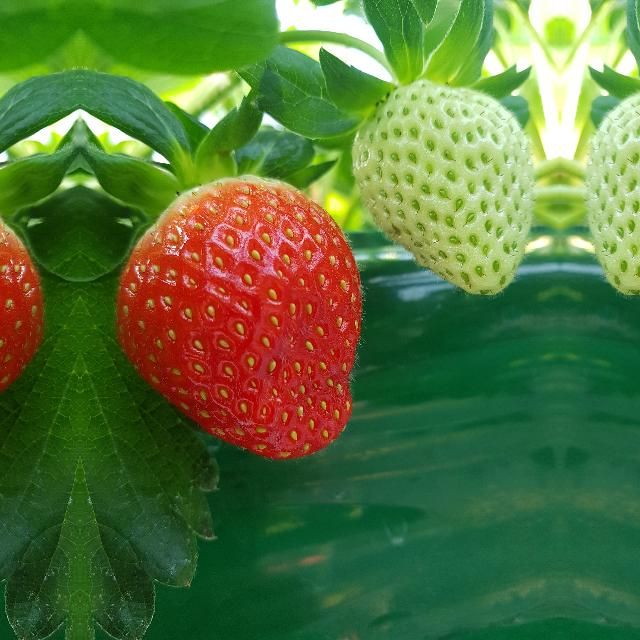Health_100: (114, 174, 363, 462)
Health_25: (356, 68, 534, 302), (585, 68, 640, 302)
